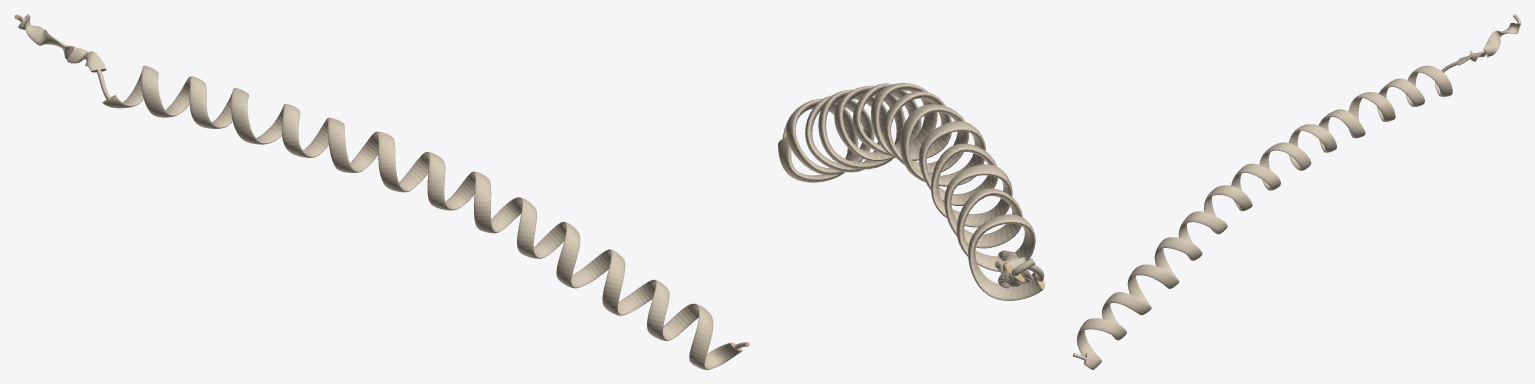
The model's file is HelixSheetrCoil.dae.
3 views of the same model, side by side, from view 1: azimuth 30°, elevation 25°; view 2: azimuth 150°, elevation 25°; view 3: azimuth 270°, elevation 25° (orthographic). The views are drawn at different scales.
Parts seen in each view (by area): view 1: Shape_IndexedTriangleStripSet_054; view 2: Shape_IndexedTriangleStripSet_054; view 3: Shape_IndexedTriangleStripSet_054.
Boxes of the visible parts, left/top/right/bottom form: Shape_IndexedTriangleStripSet_054: left=14, top=14, right=749, bottom=369; Shape_IndexedTriangleStripSet_054: left=778, top=83, right=1044, bottom=300; Shape_IndexedTriangleStripSet_054: left=1073, top=14, right=1520, bottom=369.
Bounding box in the file's own units: 54.77 × 61.81 × 29.7.
